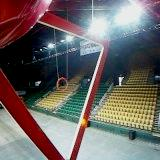Orange_Circle_GShape: (56, 77, 68, 91)
Orange_Triangle_Gshape: (0, 11, 111, 160)
